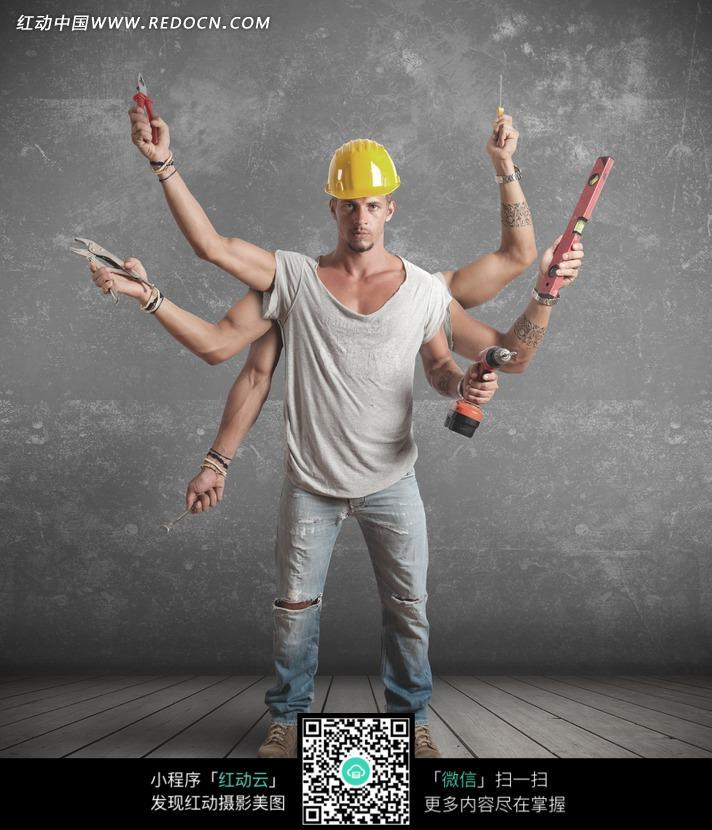helmet: (321, 135, 404, 203)
